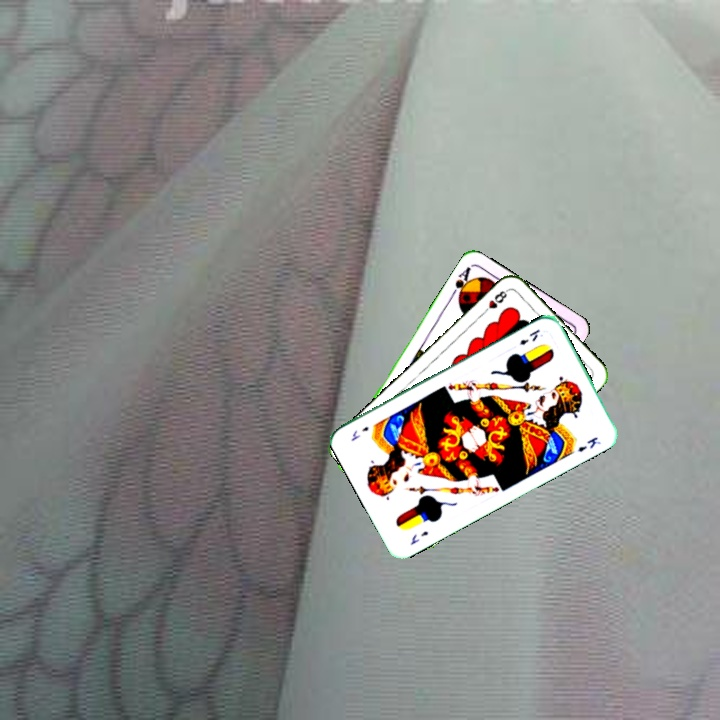EK: (515, 325, 542, 348), (406, 527, 431, 547)
H8: (478, 285, 510, 317)
SA: (447, 263, 475, 302)
